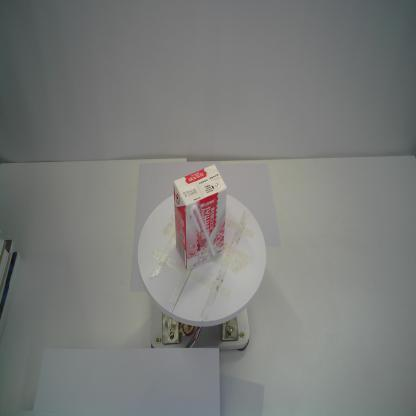Milk: (173, 164, 227, 271)
